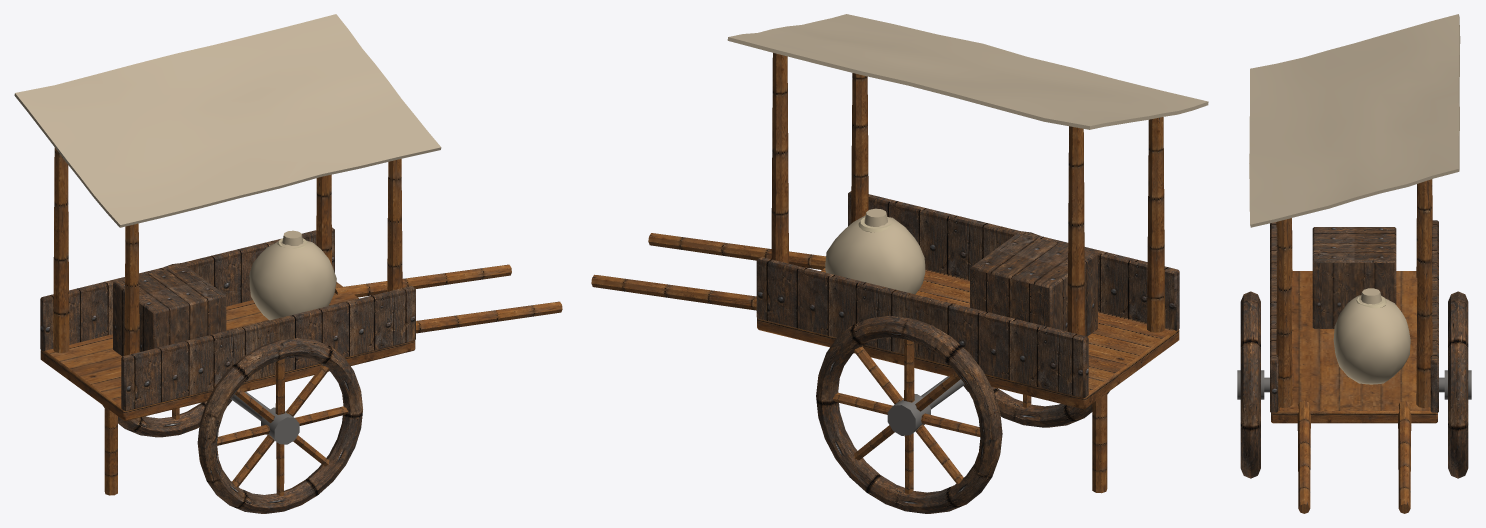
File: vendor-cart-v01.glb
3 renders of one model, left to right at view 1: azimuth 30°, elevation 25°; view 2: azimuth 150°, elevation 25°; view 3: azimuth 270°, elevation 25°, orthographic. The views are drawn at different scales.
Parts seen in each view (by area): view 1: vendor-cart; view 2: vendor-cart; view 3: vendor-cart.
Part boxes in pixels (x1,y1,x2,y2): vendor-cart: (14, 14, 562, 513); vendor-cart: (591, 14, 1208, 513); vendor-cart: (1237, 14, 1471, 513).
Bounding box in the file's own units: 3.2 × 2.5 × 1.4.
Materials: 6 (2 with a texture image).
